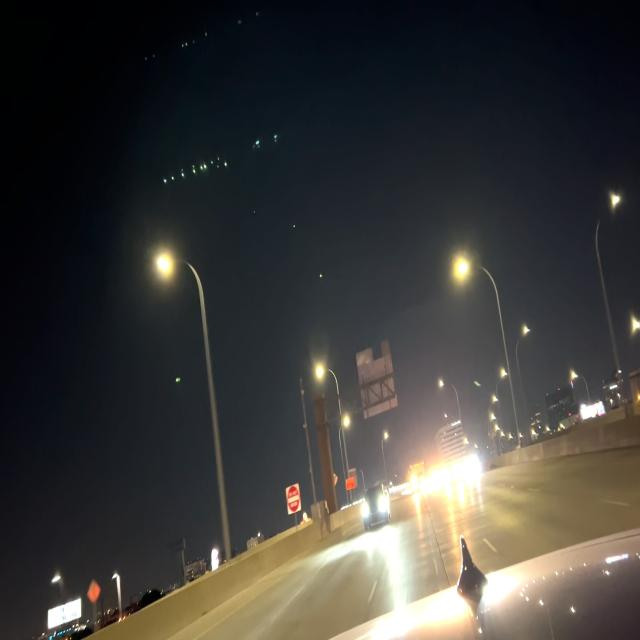back-of-sign: (355, 341, 400, 420)
